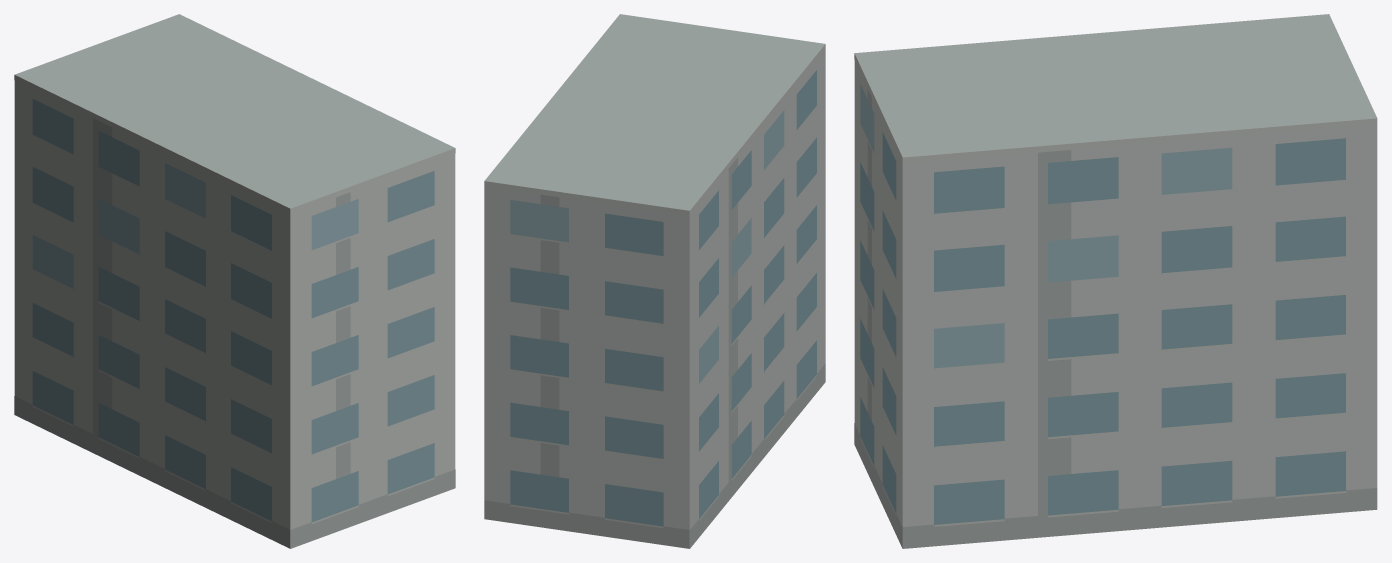
Rendered from residential-6fe3b791-d3ed-41dc-a4a8-7bfdcd56703f.glb.
3 views of the same model, side by side, from view 1: azimuth 30°, elevation 25°; view 2: azimuth 150°, elevation 25°; view 3: azimuth 270°, elevation 25° (orthographic). The views are drawn at different scales.
Visible parts, largest first — view 1: residential-6fe3b791-d3ed-41dc-a4a8-7bfdcd56703f.tmp; view 2: residential-6fe3b791-d3ed-41dc-a4a8-7bfdcd56703f.tmp; view 3: residential-6fe3b791-d3ed-41dc-a4a8-7bfdcd56703f.tmp.
Boxes of the visible parts, bbox=[...] form: residential-6fe3b791-d3ed-41dc-a4a8-7bfdcd56703f.tmp: bbox=[14, 14, 455, 548]; residential-6fe3b791-d3ed-41dc-a4a8-7bfdcd56703f.tmp: bbox=[484, 14, 825, 548]; residential-6fe3b791-d3ed-41dc-a4a8-7bfdcd56703f.tmp: bbox=[854, 14, 1377, 548].
Size of the model in its own units: 12 by 15.25 by 18.48.
